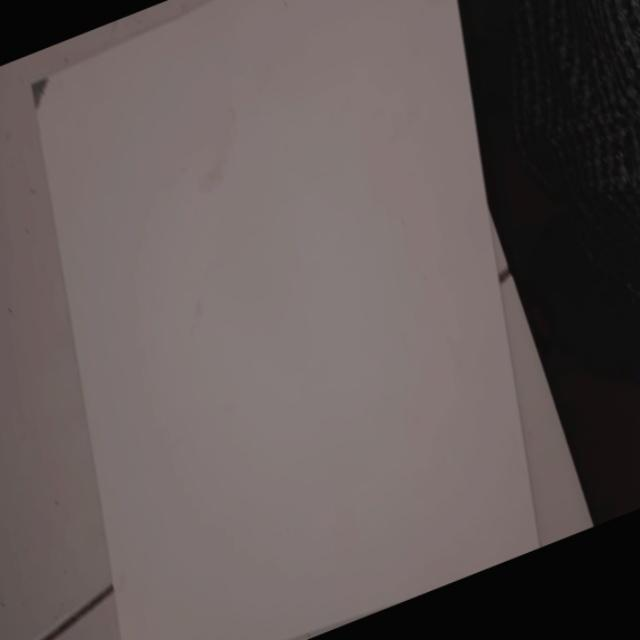TLC Plate: (33, 0, 539, 640)
